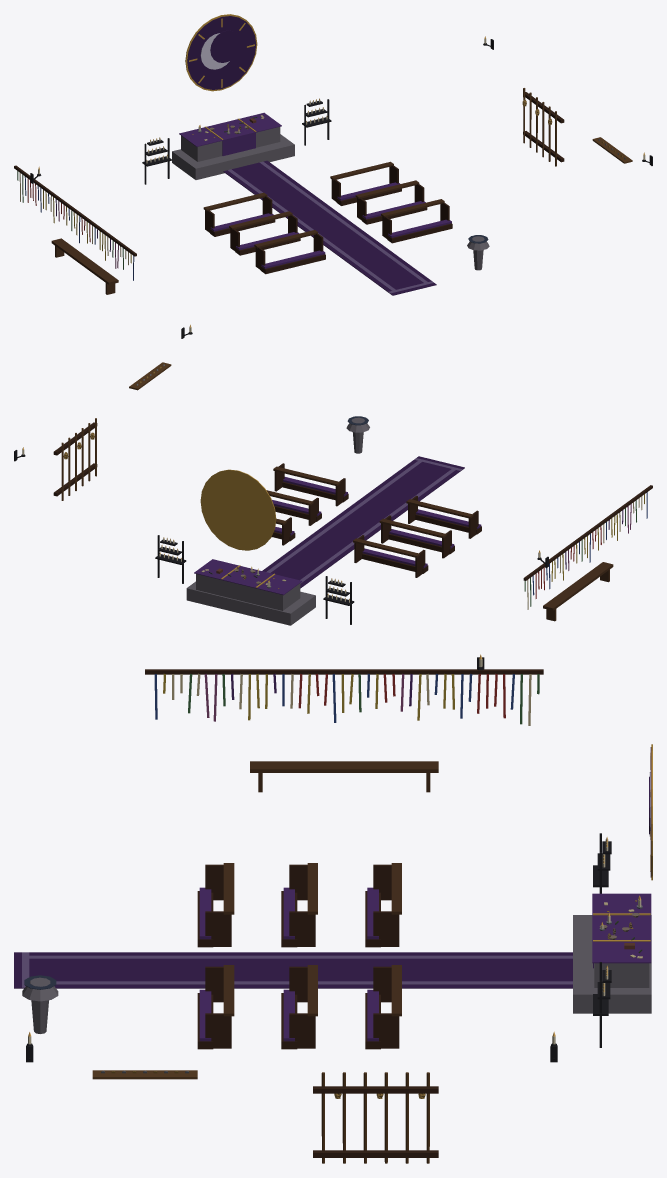
Rendered from pilgrim-shrine.glb.
The picture shows the model from 3 angles, top to bottom: view 1: azimuth 30°, elevation 25°; view 2: azimuth 150°, elevation 25°; view 3: azimuth 270°, elevation 25°; orthographic projection. The views are drawn at different scales.
Visible parts, largest first — view 1: pilgrim-shrine; view 2: pilgrim-shrine; view 3: pilgrim-shrine.
Boxes of the visible parts, left/top/right/bottom form: pilgrim-shrine: left=14, top=14, right=652, bottom=295; pilgrim-shrine: left=14, top=324, right=652, bottom=625; pilgrim-shrine: left=14, top=654, right=652, bottom=1163.
Size of the model in its own units: 17.59 by 4.7 by 12.18.
